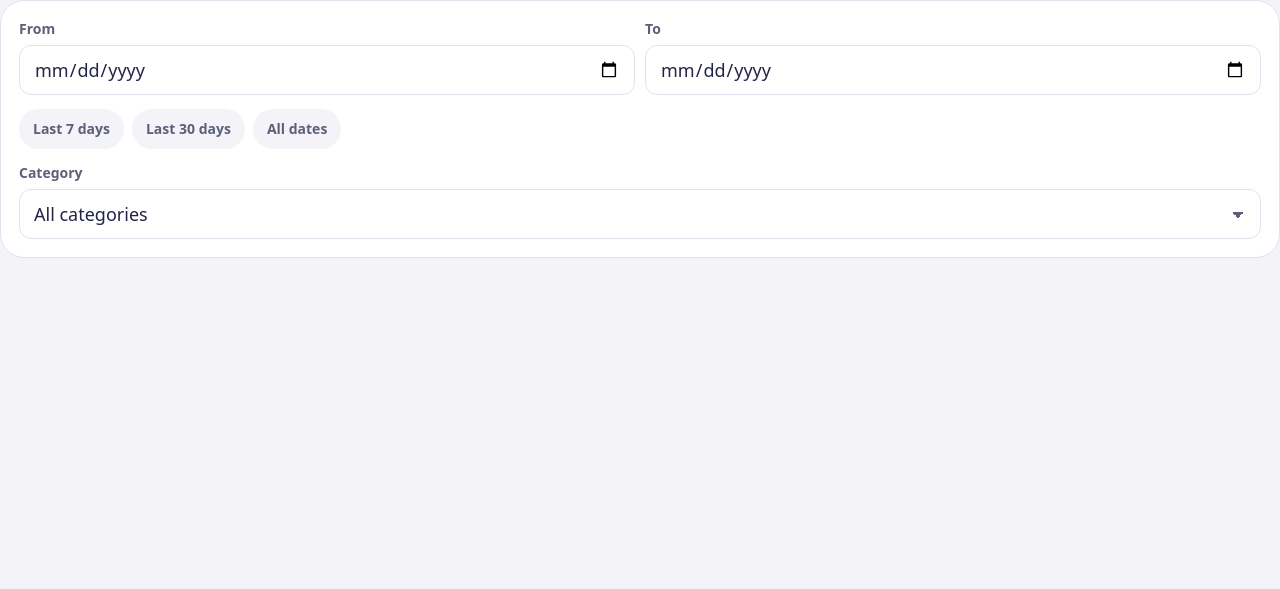
Scenario: ReportFilterBar › lists every entry type and every category in use in the dropdown
Click the button named "Category" at (91, 214), box [19,189,1261,239]
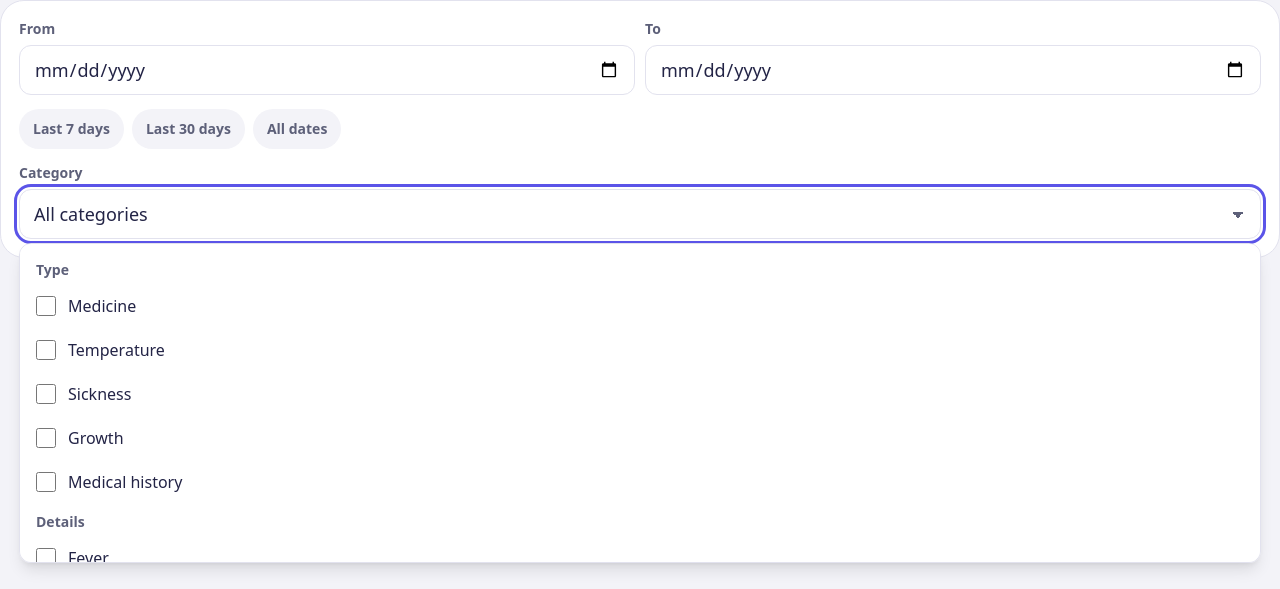
Expected: the checkbox labelled "Medicine" is shown, [36,296,56,316]
Expected: the checkbox labelled "Temperature" is shown, [36,340,56,360]
Expected: the checkbox labelled "Sickness" is shown, [36,384,56,404]
